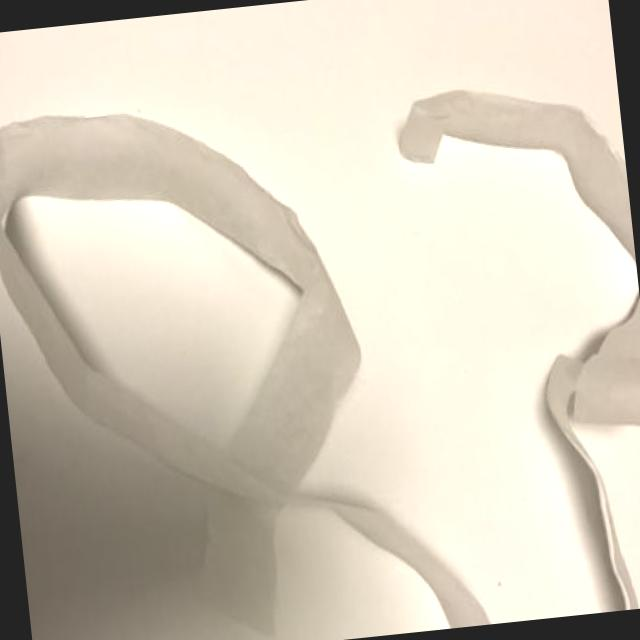giay: (0, 113, 492, 639), (398, 90, 636, 269), (544, 290, 640, 610)
